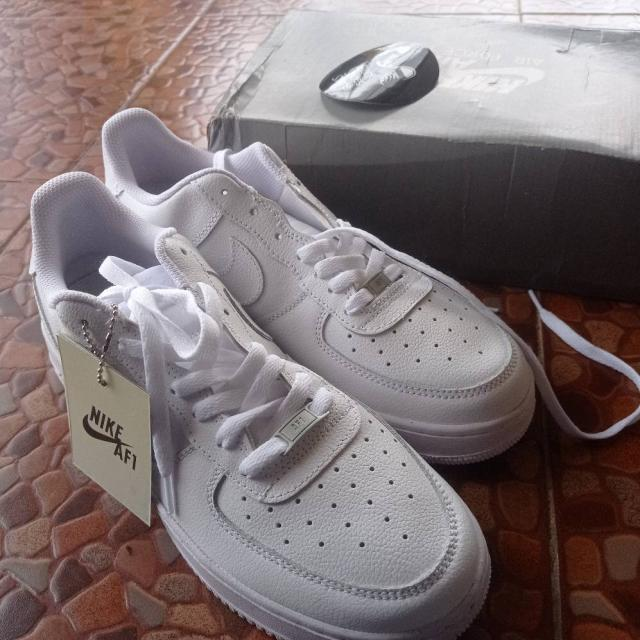nike fake air force: (14, 167, 514, 640), (98, 108, 586, 466)
